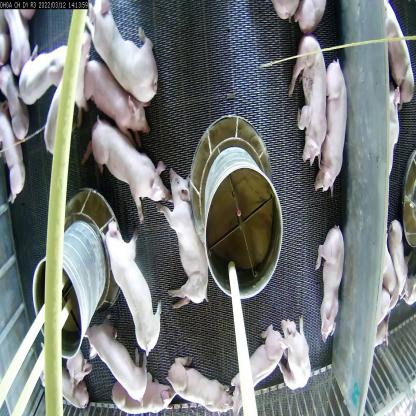Pig: (158, 164, 217, 318), (92, 112, 166, 221), (79, 2, 159, 102), (106, 221, 163, 354), (78, 56, 154, 134), (285, 30, 327, 162), (86, 318, 150, 399), (313, 56, 347, 202), (311, 220, 351, 336), (166, 355, 240, 415), (228, 324, 286, 398), (16, 44, 76, 106), (273, 307, 312, 388), (107, 376, 181, 415), (40, 354, 86, 416), (1, 112, 23, 204), (0, 68, 28, 138)
